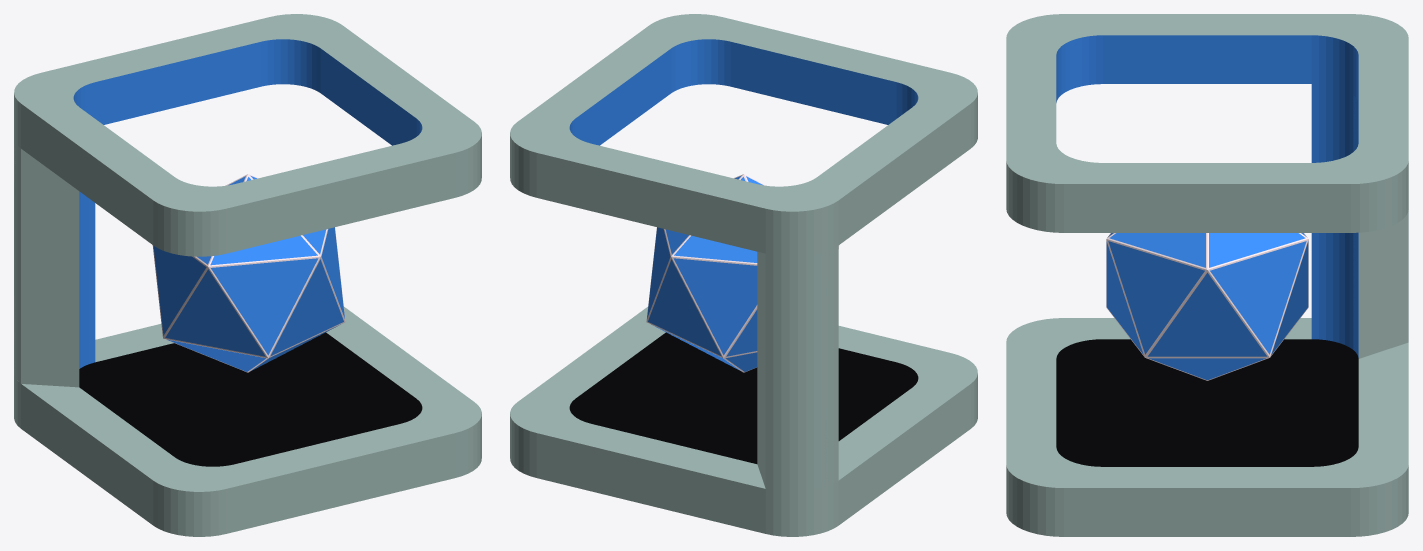
File: nuppgin.glb
3 renders of one model, left to right at view 1: azimuth 30°, elevation 25°; view 2: azimuth 150°, elevation 25°; view 3: azimuth 270°, elevation 25°, orthographic. The views are drawn at different scales.
Visible parts, largest first — view 1: Cube.002, Icosphere; view 2: Cube.002, Icosphere; view 3: Cube.002, Icosphere.
Part boxes in pixels (x1,y1,x2,y2): Cube.002: (14, 14, 481, 536); Icosphere: (152, 174, 345, 372); Cube.002: (510, 14, 977, 536); Icosphere: (646, 174, 839, 372); Cube.002: (1006, 14, 1408, 536); Icosphere: (1106, 233, 1308, 380).
Bounding box in the file's own units: 12.97 × 12.55 × 12.97.
